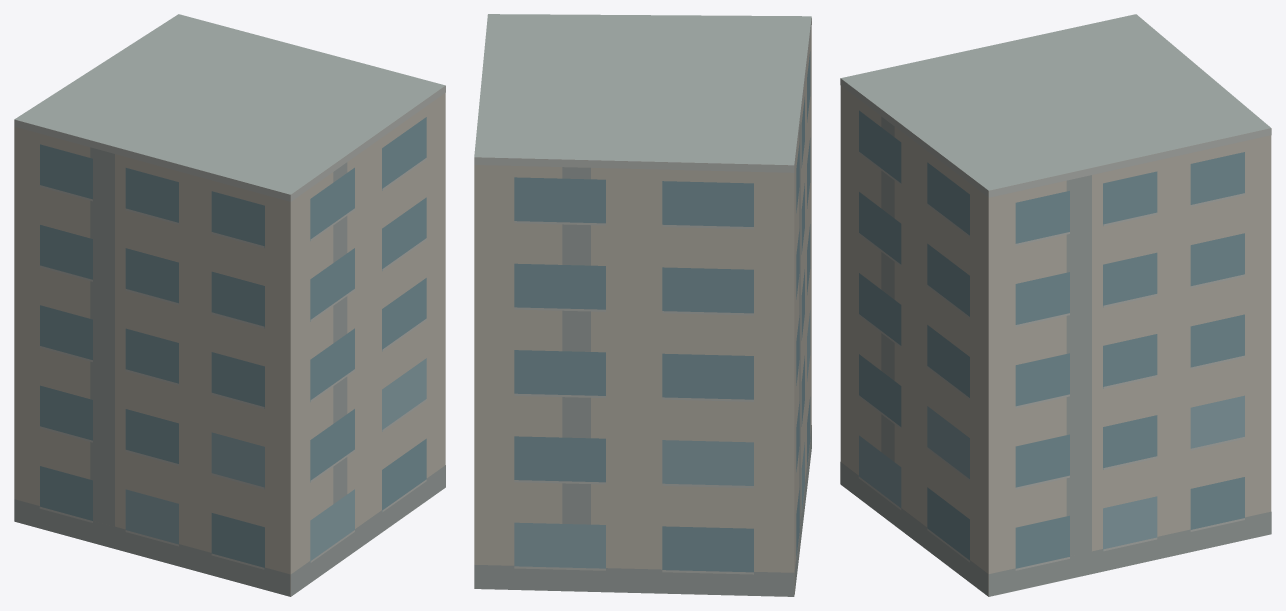
Rendered from survey-upis-32841504.glb.
3 renders of one model, left to right at view 1: azimuth 30°, elevation 25°; view 2: azimuth 150°, elevation 25°; view 3: azimuth 270°, elevation 25°, orthographic. The views are drawn at different scales.
Visible parts, largest first — view 1: survey-upis-32841504.tmp; view 2: survey-upis-32841504.tmp; view 3: survey-upis-32841504.tmp.
Boxes of the visible parts, bbox=[...] form: survey-upis-32841504.tmp: bbox=[14, 14, 445, 596]; survey-upis-32841504.tmp: bbox=[474, 14, 811, 596]; survey-upis-32841504.tmp: bbox=[840, 14, 1271, 596].
Bounding box in the file's own units: 12.89 × 13.8 × 13.28.
